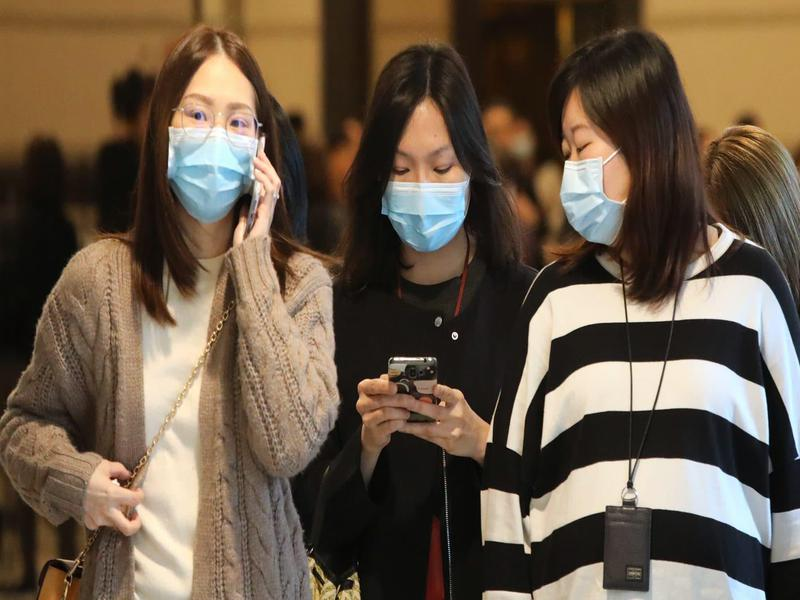with_mask: (553, 28, 703, 259), (162, 53, 264, 228), (378, 90, 472, 269)
